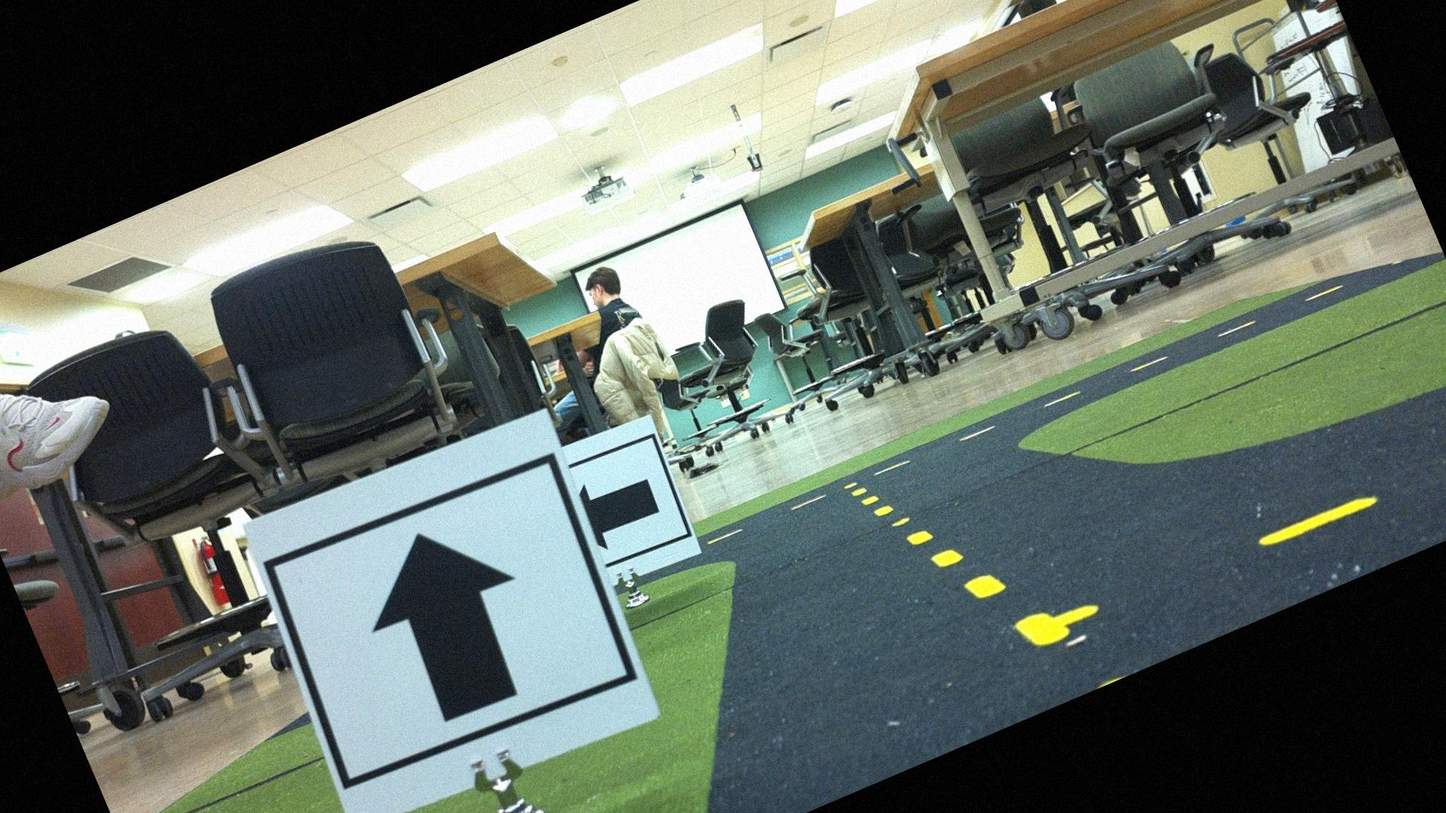gostraight: (252, 419, 664, 812)
yellowline: (842, 426, 1069, 700)
